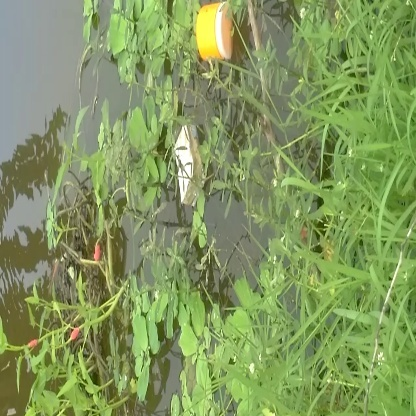bottle: (192, 2, 248, 75)
milk-box: (172, 117, 212, 219)
